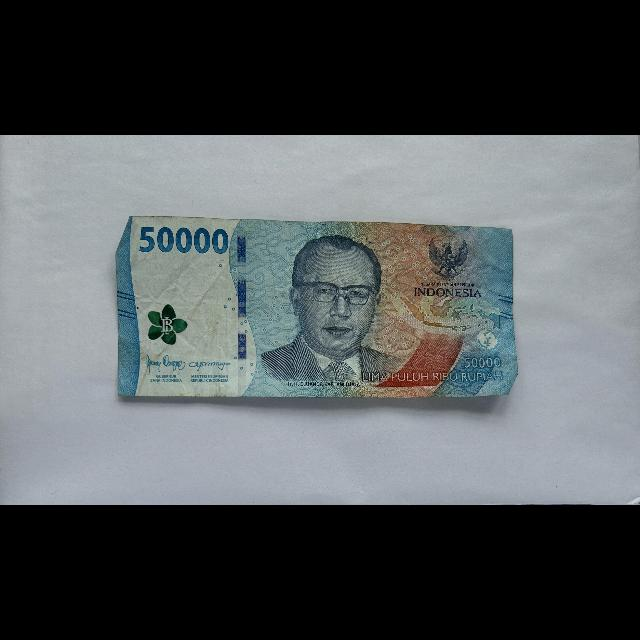Asli-50k: (117, 215, 520, 400)
Tinta-Asli-50k: (148, 303, 189, 347)
